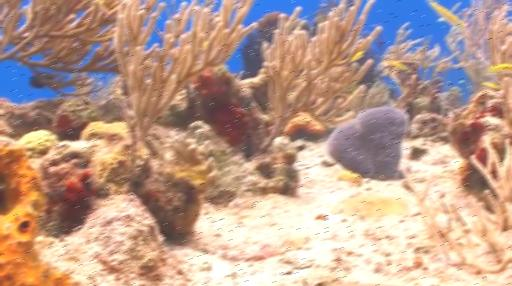Fish: (427, 0, 463, 27), (338, 51, 365, 64), (386, 60, 408, 71), (489, 63, 511, 73), (28, 76, 46, 88), (351, 51, 365, 61), (483, 82, 501, 89), (451, 2, 461, 13)
